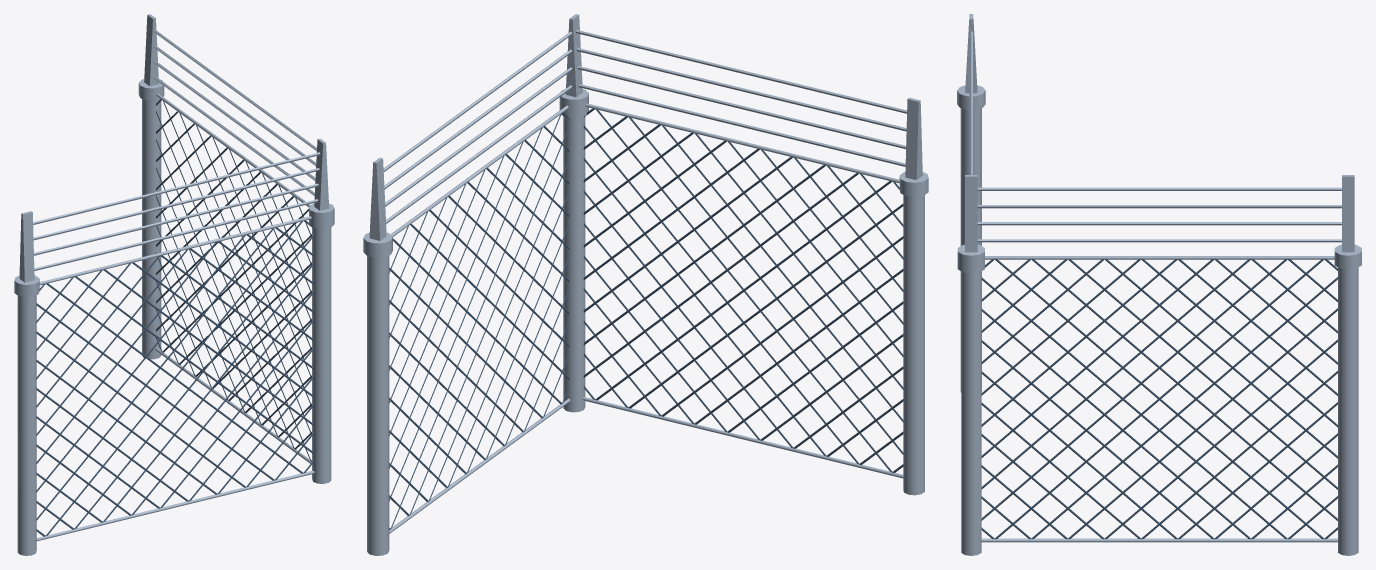
The model's file is Alambre_Esquina.fbx.
3 renders of one model, left to right at view 1: azimuth 30°, elevation 25°; view 2: azimuth 150°, elevation 25°; view 3: azimuth 270°, elevation 25°, orthographic. The views are drawn at different scales.
Visible parts, largest first — view 1: Alambre_Esquina; view 2: Alambre_Esquina; view 3: Alambre_Esquina.
Part boxes in pixels (x1,y1,x2,y2): Alambre_Esquina: [14, 14, 334, 555]; Alambre_Esquina: [363, 14, 928, 555]; Alambre_Esquina: [957, 14, 1361, 555].
Bounding box in the file's own units: 635 × 650 × 635.
